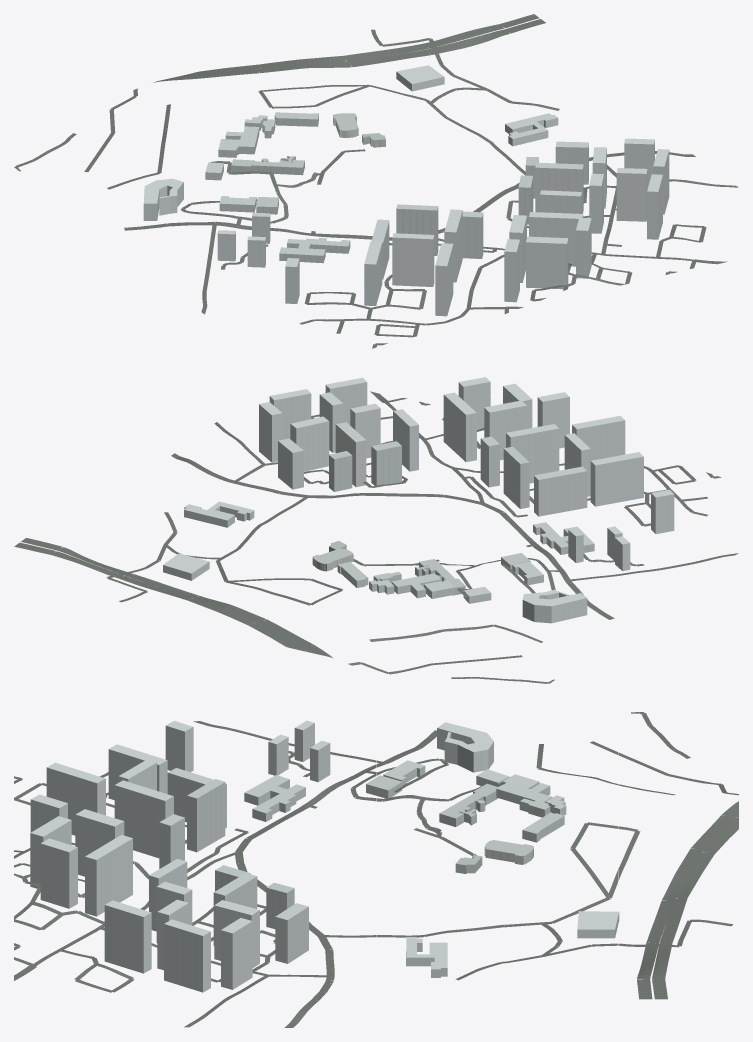
The picture shows the model from 3 angles, top to bottom: view 1: azimuth 30°, elevation 25°; view 2: azimuth 150°, elevation 25°; view 3: azimuth 270°, elevation 25°; orthographic projection. The views are drawn at different scales.
Parts seen in each view (by area): view 1: osm-roads, osm-building-784401986, osm-building-784401973, osm-building-784402010, osm-building-784401990, osm-building-784401970, osm-building-977100330, osm-building-784401987, osm-building-762515699, osm-building-784401978, osm-building-762515689, osm-building-784401981 (+22 smaller); view 2: osm-roads, osm-building-784401981, osm-building-784401980, osm-building-784401979, osm-building-784401970, osm-building-977100330, osm-building-784401978, osm-building-784401994, osm-building-784401972, osm-building-784401987, osm-building-784401990, osm-building-784401991 (+20 smaller); view 3: osm-roads, osm-building-784401970, osm-building-784401979, osm-building-784401998, osm-building-784401997, osm-building-784401978, osm-building-784401975, osm-building-784401987, osm-building-977100330, osm-building-784401996, osm-building-762515699, osm-building-784401972 (+25 smaller).
Boxes of the visible parts, box(x1,y1,x2,y2) form: osm-roads: box(14, 14, 738, 348); osm-building-784401986: box(392, 233, 434, 286); osm-building-784401973: box(526, 236, 568, 289); osm-building-784402010: box(616, 168, 647, 221); osm-building-784401990: box(535, 162, 583, 213); osm-building-784401970: box(529, 212, 583, 266); osm-building-977100330: box(143, 178, 183, 220); osm-building-784401987: box(396, 204, 438, 255); osm-building-762515699: box(279, 237, 350, 263); osm-building-784401978: box(435, 243, 453, 316); osm-building-762515689: box(505, 113, 558, 146); osm-building-784401981: box(364, 241, 382, 306); osm-roads: box(14, 391, 738, 683); osm-building-784401981: box(590, 452, 643, 506); osm-building-784401980: box(534, 466, 587, 516); osm-building-784401979: box(506, 424, 559, 483); osm-building-784401970: box(443, 392, 476, 462); osm-building-977100330: box(522, 589, 587, 623); osm-building-784401978: box(572, 415, 625, 460); osm-building-784401994: box(290, 416, 329, 471); osm-building-784401972: box(484, 400, 526, 460); osm-building-784401987: box(503, 446, 529, 508); osm-building-784401990: box(335, 422, 366, 487); osm-building-784401991: box(371, 441, 401, 487); osm-roads: box(14, 712, 738, 1027); osm-building-784401970: box(85, 835, 132, 916); osm-building-784401979: box(114, 780, 173, 858); osm-building-784401998: box(104, 900, 151, 973); osm-building-784401997: box(164, 919, 210, 992); osm-building-784401978: box(46, 762, 105, 835); osm-building-784401975: box(40, 838, 77, 908); osm-building-784401987: box(187, 779, 225, 852); osm-building-977100330: box(437, 722, 493, 772); osm-building-784401996: box(221, 918, 252, 989); osm-building-762515699: box(244, 775, 305, 821); osm-building-784401972: box(75, 809, 124, 876).
Bounding box in the file's own units: 720 × 70.89 × 720.
Materials: 7 (1 with a texture image).
